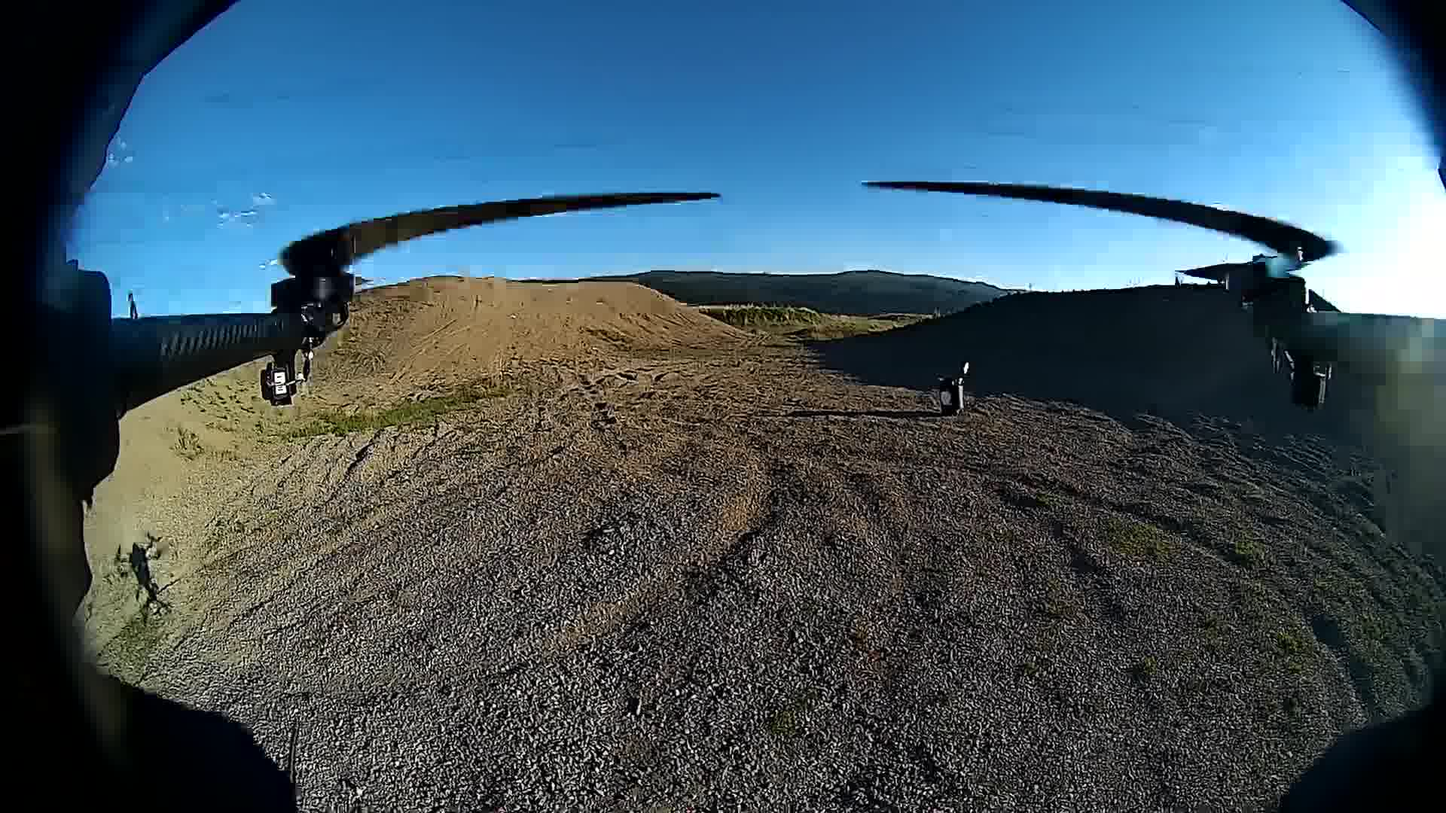Target: (939, 391, 952, 405)
